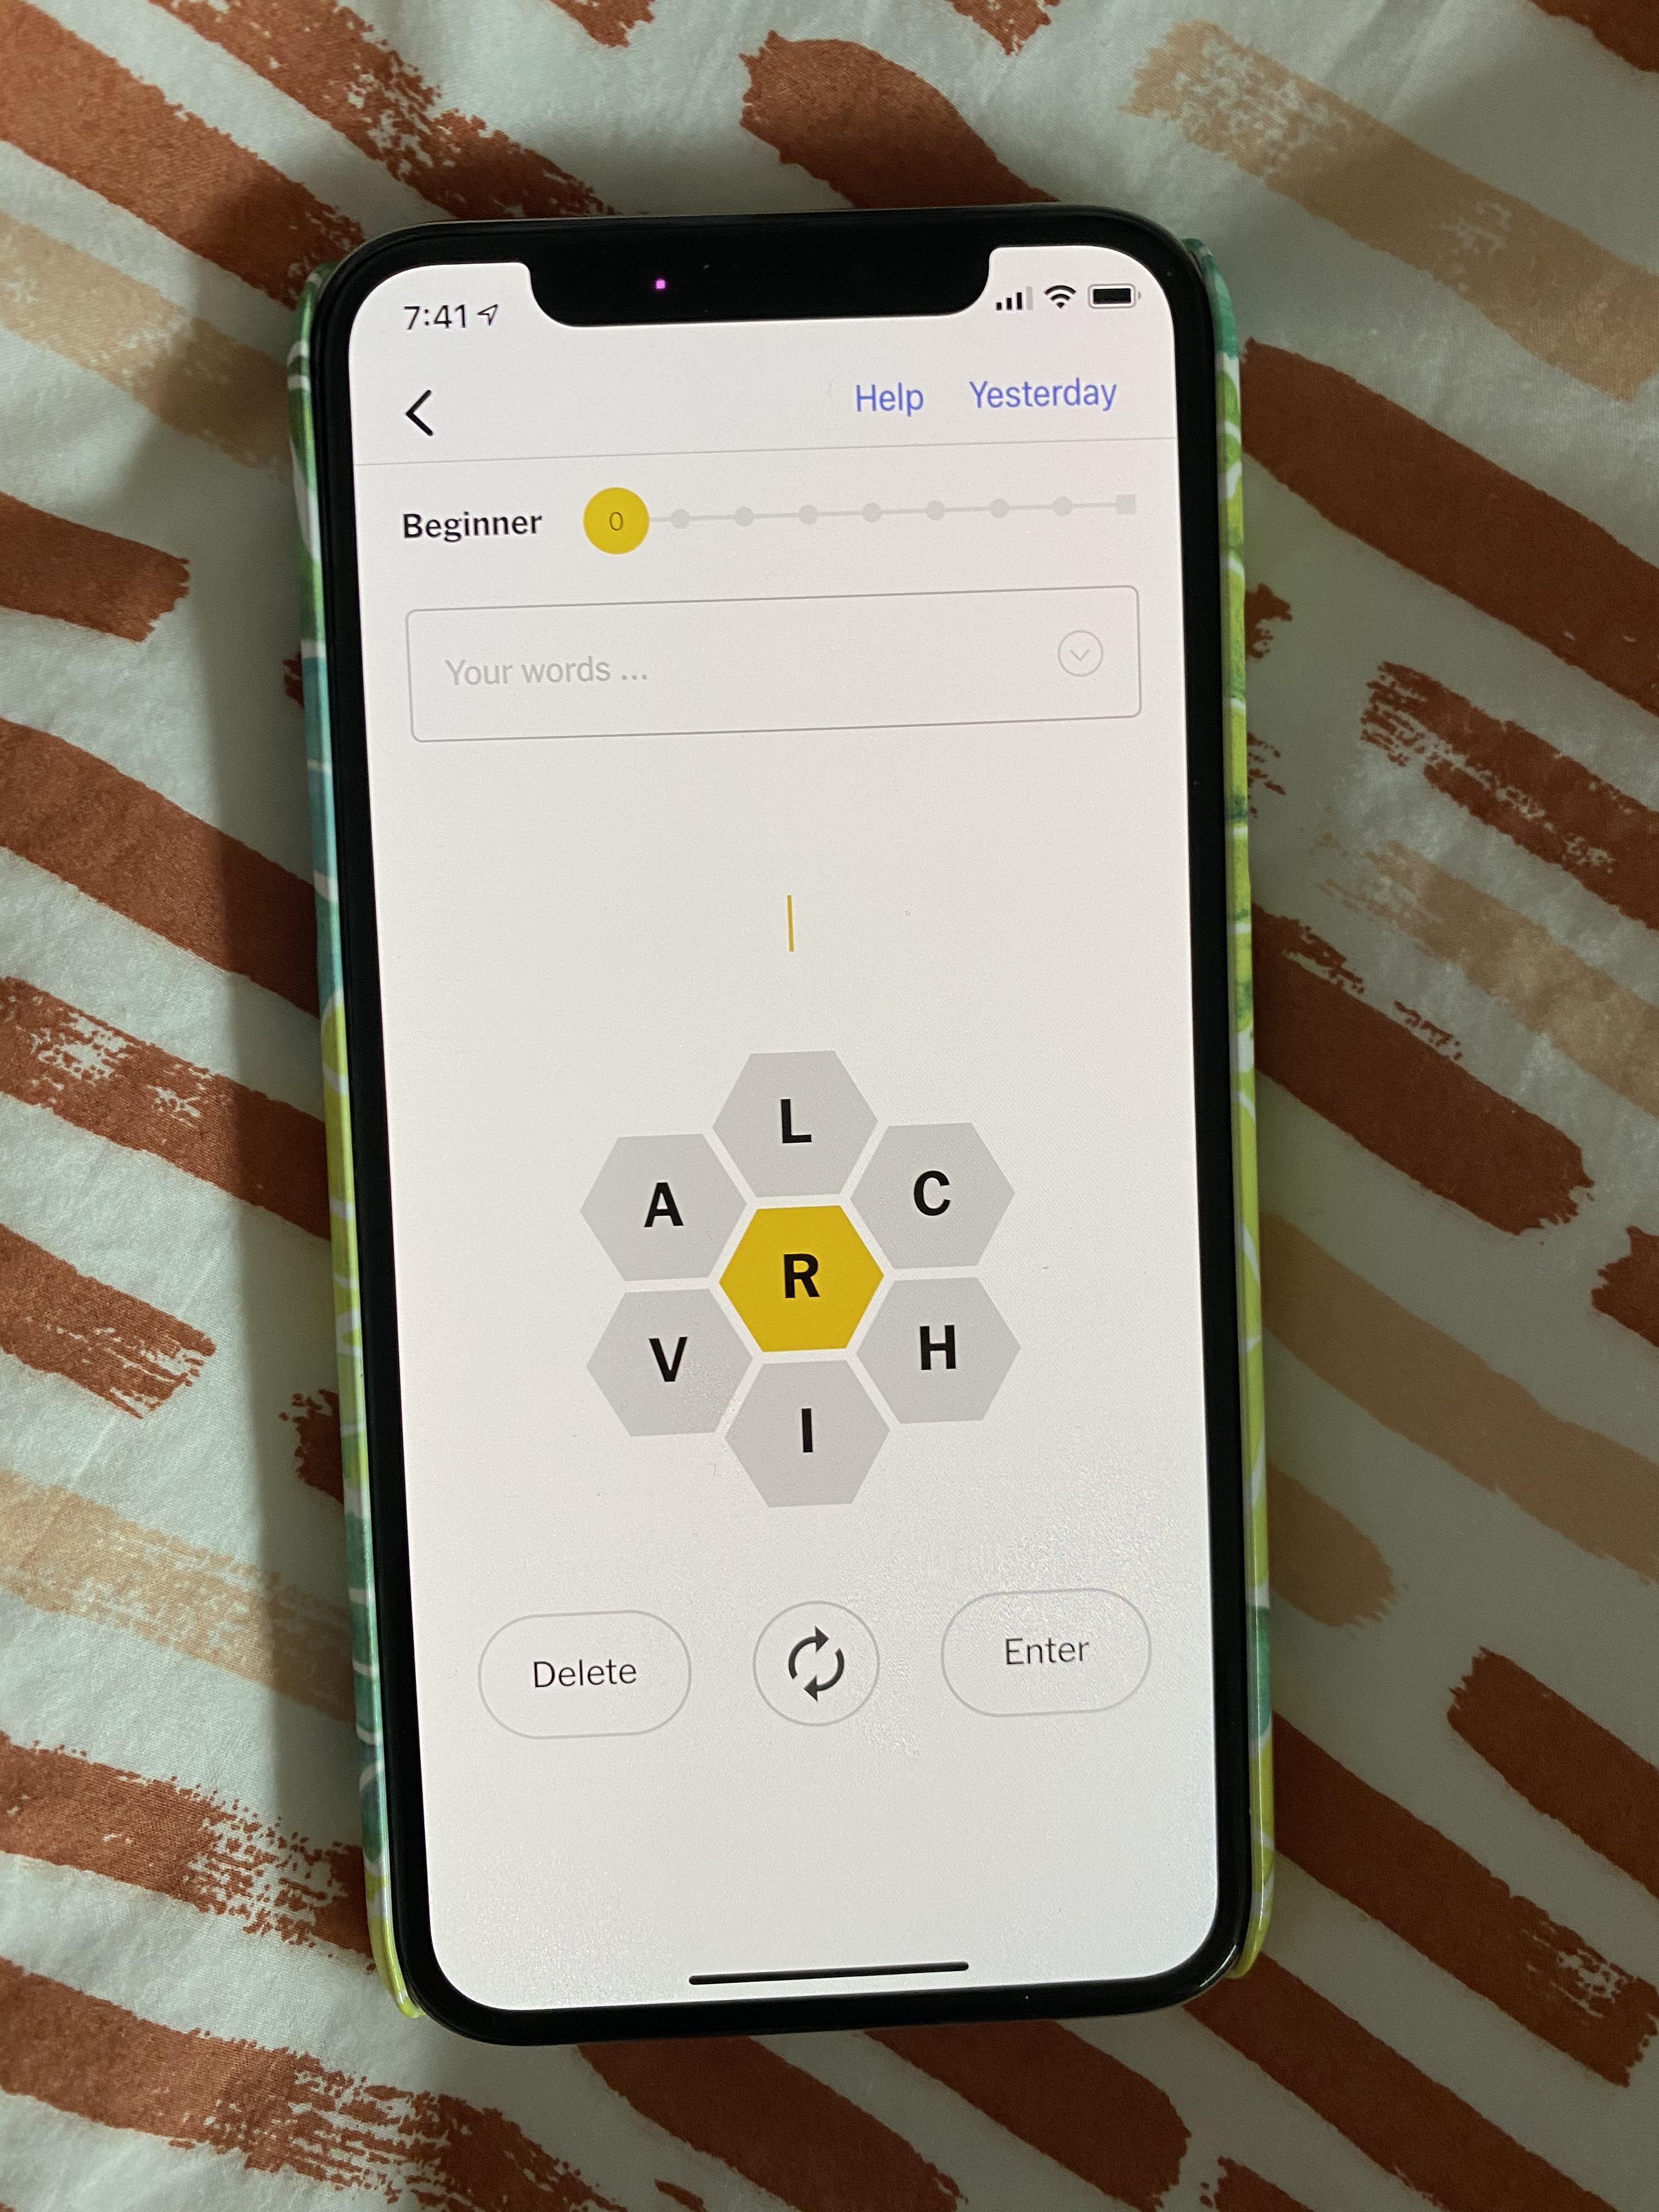Board: (563, 1028, 1063, 1531)
